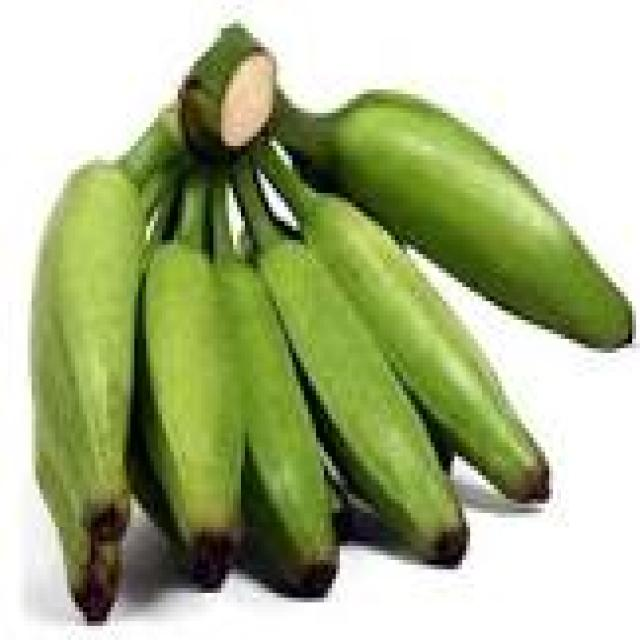banana: (261, 146, 549, 498), (234, 160, 466, 564), (277, 90, 632, 348), (32, 113, 181, 621), (214, 179, 339, 597), (139, 175, 244, 588), (36, 452, 118, 621)
